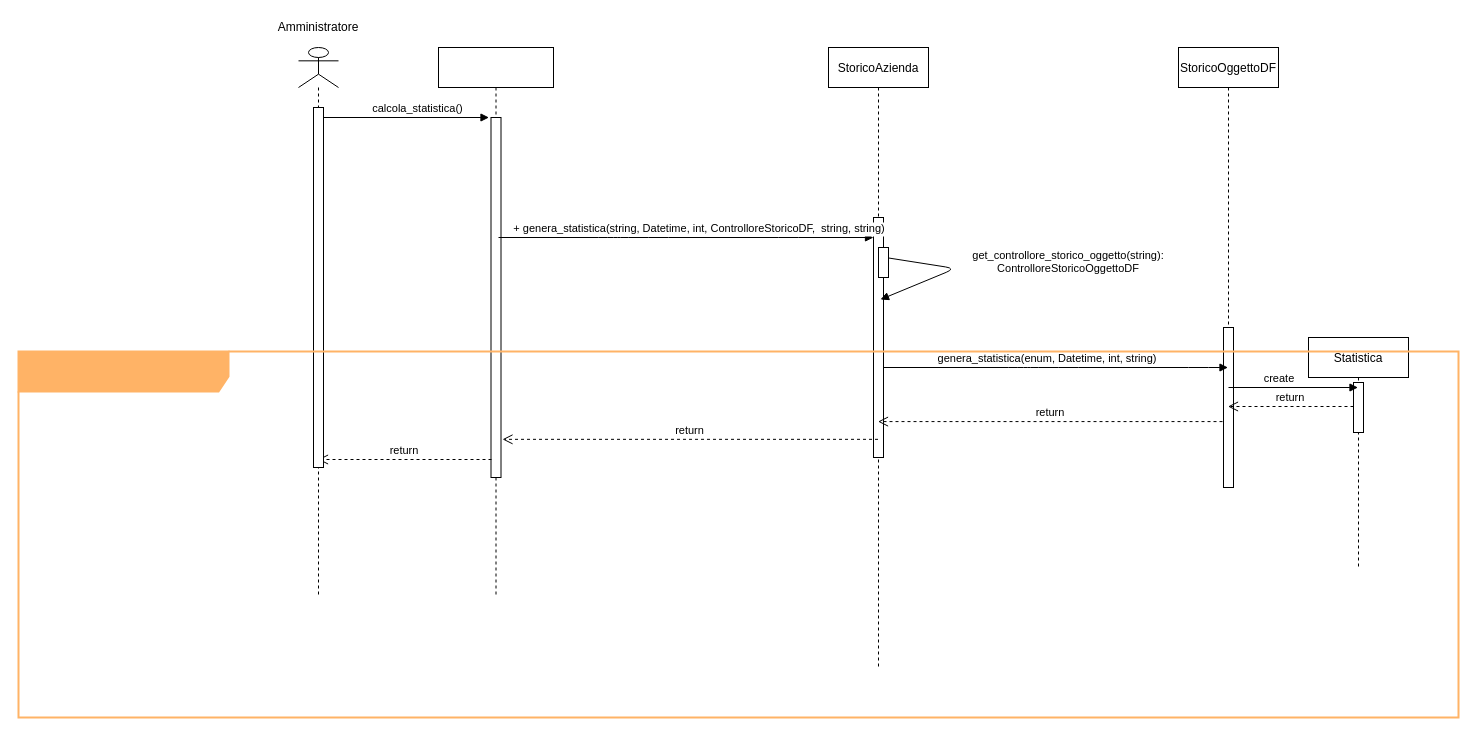
This 1476x735 diagram has some shape labels left out. Each missing label, with the box of its shape:
Genera e Visualizza Statistiche: (17, 350, 1459, 718)
GeneratoreStatistiche: (438, 46, 554, 598)
